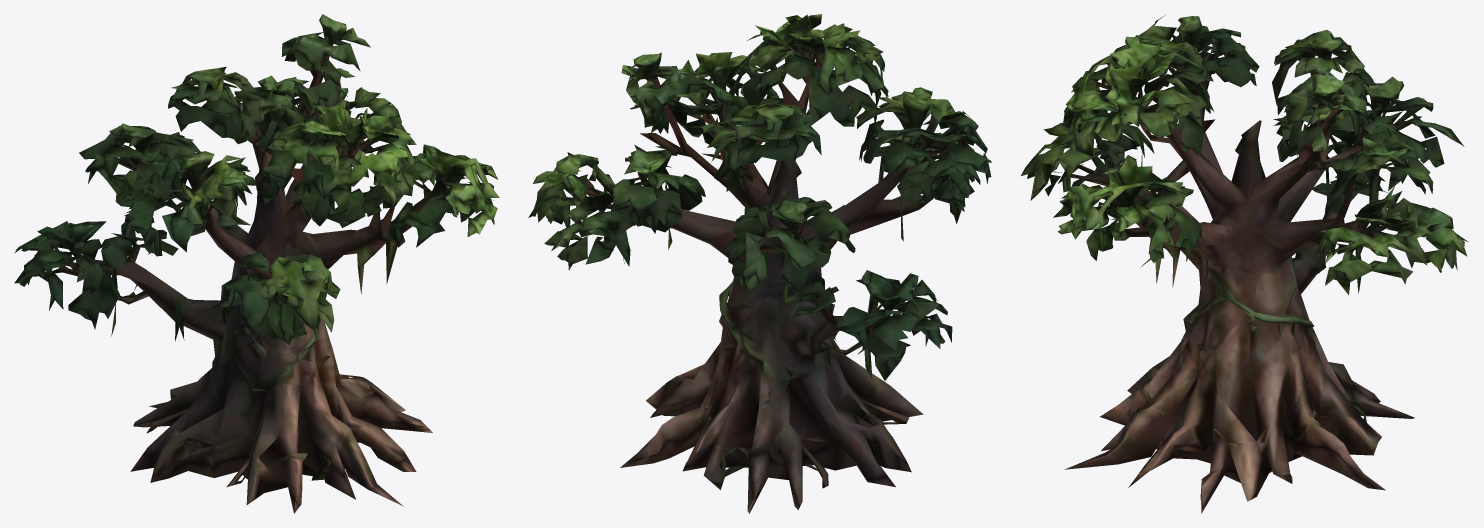
The model's file is p8gianttree.glb.
The picture shows the model from 3 angles, left to right: view 1: azimuth 30°, elevation 25°; view 2: azimuth 150°, elevation 25°; view 3: azimuth 270°, elevation 25°; orthographic projection. The views are drawn at different scales.
Visible parts, largest first — view 1: tripo_node_1f57c3c3-37b3-456e-9ef4-87c7ca12fa80; view 2: tripo_node_1f57c3c3-37b3-456e-9ef4-87c7ca12fa80; view 3: tripo_node_1f57c3c3-37b3-456e-9ef4-87c7ca12fa80.
Part boxes in pixels (bbox=[...]): tripo_node_1f57c3c3-37b3-456e-9ef4-87c7ca12fa80: bbox=[14, 14, 499, 513]; tripo_node_1f57c3c3-37b3-456e-9ef4-87c7ca12fa80: bbox=[528, 14, 991, 513]; tripo_node_1f57c3c3-37b3-456e-9ef4-87c7ca12fa80: bbox=[1021, 15, 1468, 513].
Size of the model in its own units: 0.9651 by 0.924 by 0.904.
Materials: 1 (1 with a texture image).
